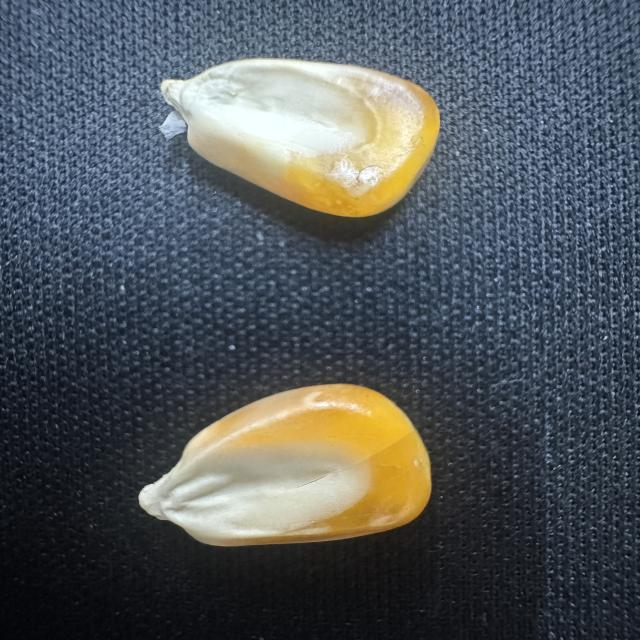Good-Seed: (133, 377, 438, 551), (158, 54, 445, 221)
